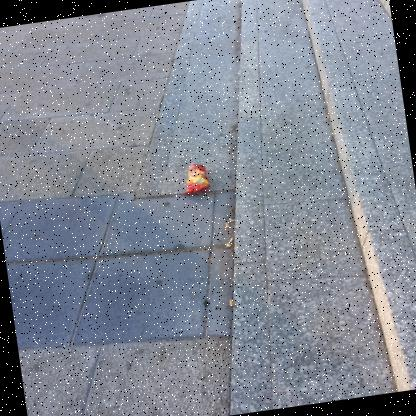Cigarette: (229, 299, 233, 306), (225, 222, 229, 228), (229, 238, 233, 242), (326, 115, 329, 118), (235, 26, 238, 28), (307, 65, 312, 66), (238, 21, 240, 23), (90, 34, 93, 35)
Crisp packet: (183, 163, 210, 194)
